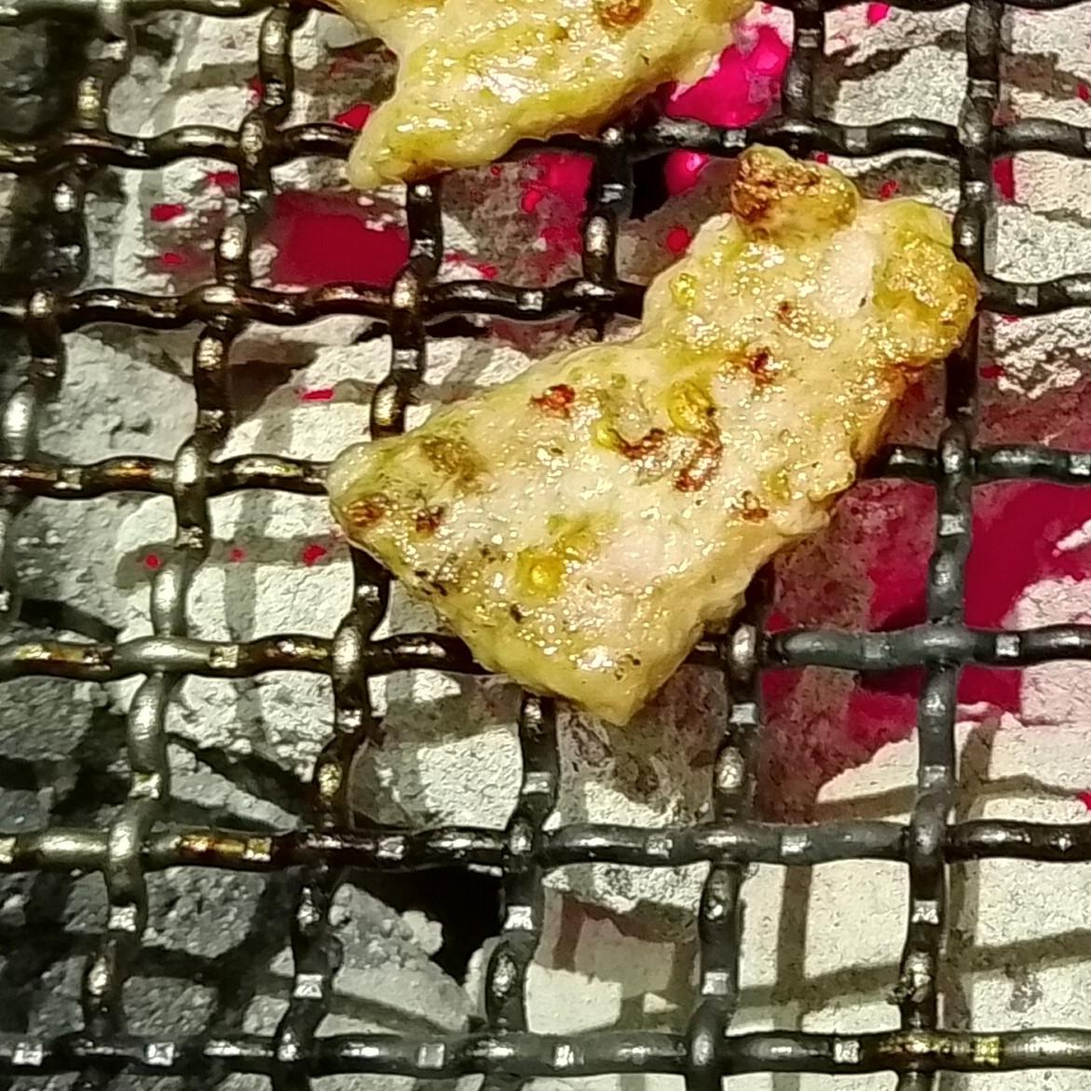Well-Cooked: (327, 147, 976, 726), (323, 0, 754, 188)
